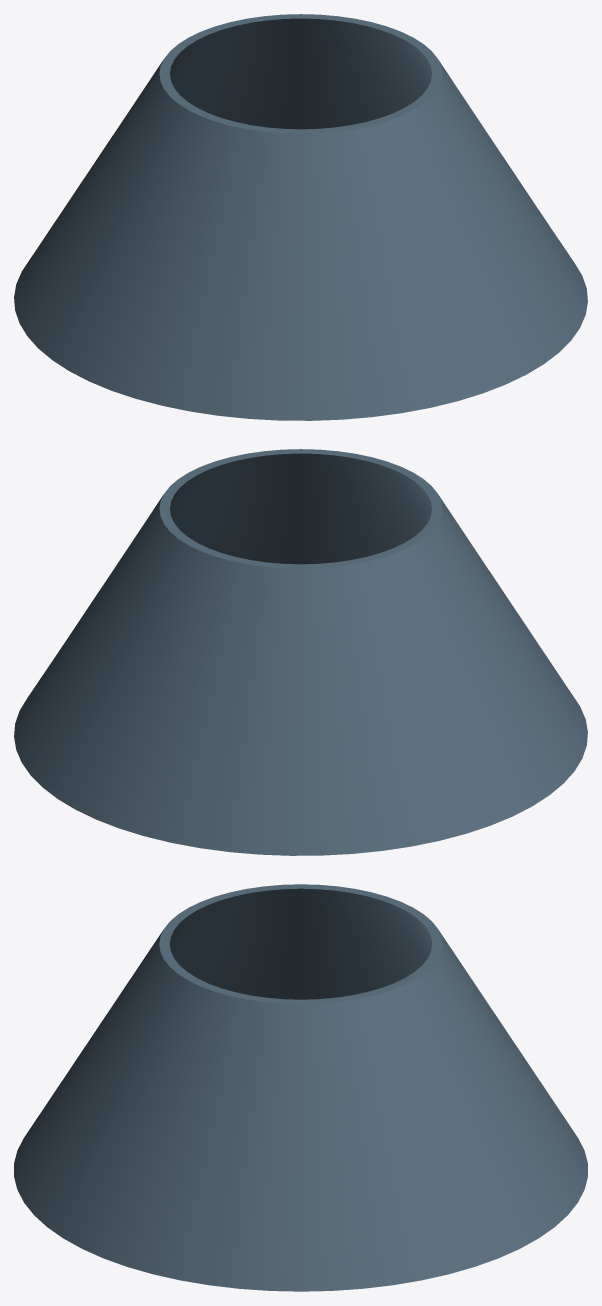
File: perehod-219x6-108x4-L95.glb
The picture shows the model from 3 angles, top to bottom: view 1: azimuth 30°, elevation 25°; view 2: azimuth 150°, elevation 25°; view 3: azimuth 270°, elevation 25°; orthographic projection.
Visible parts, largest first — view 1: Open CASCADE STEP translator 7.9 39; view 2: Open CASCADE STEP translator 7.9 39; view 3: Open CASCADE STEP translator 7.9 39.
Boxes of the visible parts, x1,y1,x2,y2 form: Open CASCADE STEP translator 7.9 39: (14,14,587,420); Open CASCADE STEP translator 7.9 39: (14,449,587,855); Open CASCADE STEP translator 7.9 39: (14,884,587,1291).
Size of the model in its own units: 219 by 95 by 219.
